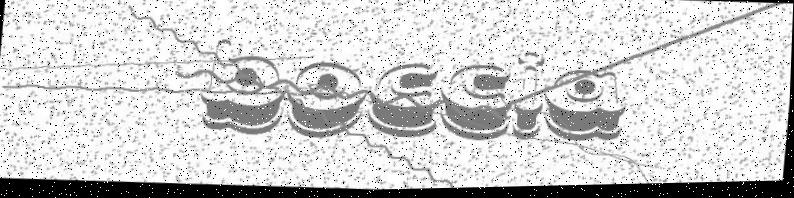a: (542, 68, 629, 147)
b: (195, 36, 292, 141)
c: (436, 63, 516, 146), (365, 61, 443, 141)
i: (509, 52, 548, 144)
o: (282, 59, 370, 144)
